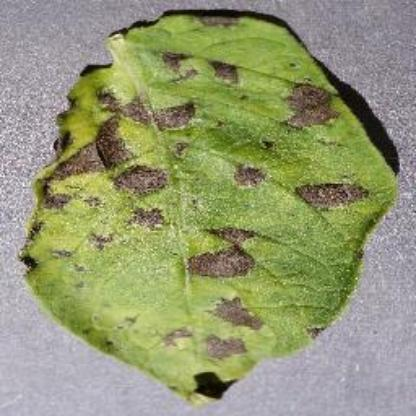Early-Blight: (20, 8, 398, 406)
